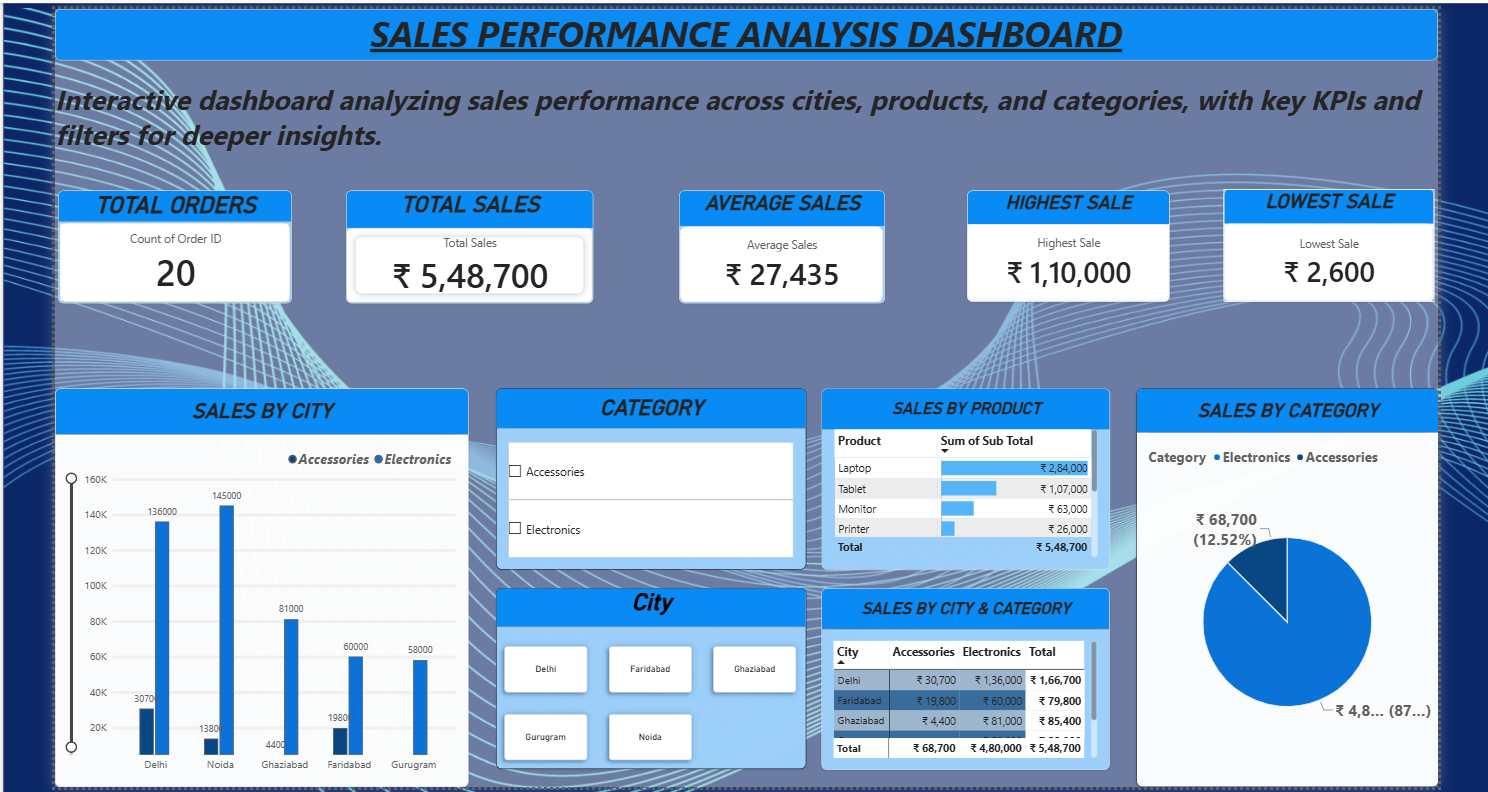

What the dashboard file says about the page in this screenshot:
{"tool":"powerbi","page":{"name":"Page 1","canvas":[1920,1080],"ordinal":0},"visuals":[{"type":"textbox","box":[0,0,1919.6,71.4],"z":0},{"type":"clusteredColumnChart","title":" SALES BY CITY","fields":{"Category":["Table1.City"],"Series":["Table1.Category"],"Y":["Sum(Table1.Sub Total)"]},"box":[0,526.9,573.8,553.1],"z":1000},{"type":"pieChart","title":"SALES BY CATEGORY","fields":{"Category":["Table1.Category"],"Y":["Sum(Table1.Sub Total)"]},"box":[1500.6,526.9,419.4,553.1],"z":2000},{"type":"advancedSlicerVisual","fields":{"Values":["Table1.City"]},"box":[613,804.3,430.9,251.2],"z":3000},{"type":"listSlicer","title":"CATEGORY","fields":{"Values":["Table1.Category"]},"box":[613,527.7,430.9,251.2],"z":4000},{"type":"cardVisual","title":"TOTAL ORDERS","fields":{"Data":["CountNonNull(Table1.Order ID)"]},"box":[4.6,251.2,324.9,156.7],"z":5000},{"type":"cardVisual","title":"TOTAL SALES","fields":{"Data":["Table1.Total Sales"]},"box":[403.3,251.2,343.4,156.7],"z":6000},{"type":"tableEx","title":" SALES BY PRODUCT","fields":{"Values":["Table2.Product","Sum(Table1.Sub Total)"]},"box":[1064.7,527.7,401,251.2],"z":7000},{"type":"pivotTable","title":"SALES BY CITY & CATEGORY","fields":{"Columns":["Table1.Category"],"Rows":["Table1.City"],"Values":["Sum(Table1.Sub Total)"]},"box":[1063.2,804.1,400,252.5],"z":8000},{"type":"cardVisual","title":"AVERAGE SALES","fields":{"Data":["Table1.Average Sales"]},"box":[866.5,251.2,285.8,156.7],"z":9000},{"type":"cardVisual","title":"HIGHEST SALE ","fields":{"Data":["Table1.Highest Sale"]},"box":[1265.1,251.2,281.1,154.4],"z":10000},{"type":"cardVisual","title":"LOWEST SALE","fields":{"Data":["Table1.Lowest Sale"]},"box":[1622.3,248.9,292.7,156.7],"z":11000},{"type":"textbox","box":[0,99.1,1920,150],"z":11001}]}

Visuals, with their boxes in screenshot pixels (x1, y1, x2, y2):
textbox: box=[50, 0, 1436, 52]
" SALES BY CITY" clusteredColumnChart: box=[50, 380, 465, 780]
"SALES BY CATEGORY" pieChart: box=[1134, 380, 1436, 780]
advancedSlicerVisual - Table1.City: box=[493, 581, 804, 762]
"CATEGORY" listSlicer: box=[493, 381, 804, 562]
"TOTAL ORDERS" cardVisual: box=[54, 181, 288, 294]
"TOTAL SALES" cardVisual: box=[341, 181, 589, 294]
" SALES BY PRODUCT" tableEx: box=[819, 381, 1108, 562]
"SALES BY CITY & CATEGORY" pivotTable: box=[818, 580, 1107, 763]
"AVERAGE SALES" cardVisual: box=[676, 181, 882, 294]
"HIGHEST SALE " cardVisual: box=[964, 181, 1166, 293]
"LOWEST SALE" cardVisual: box=[1221, 180, 1433, 293]
textbox: box=[50, 72, 1436, 180]
